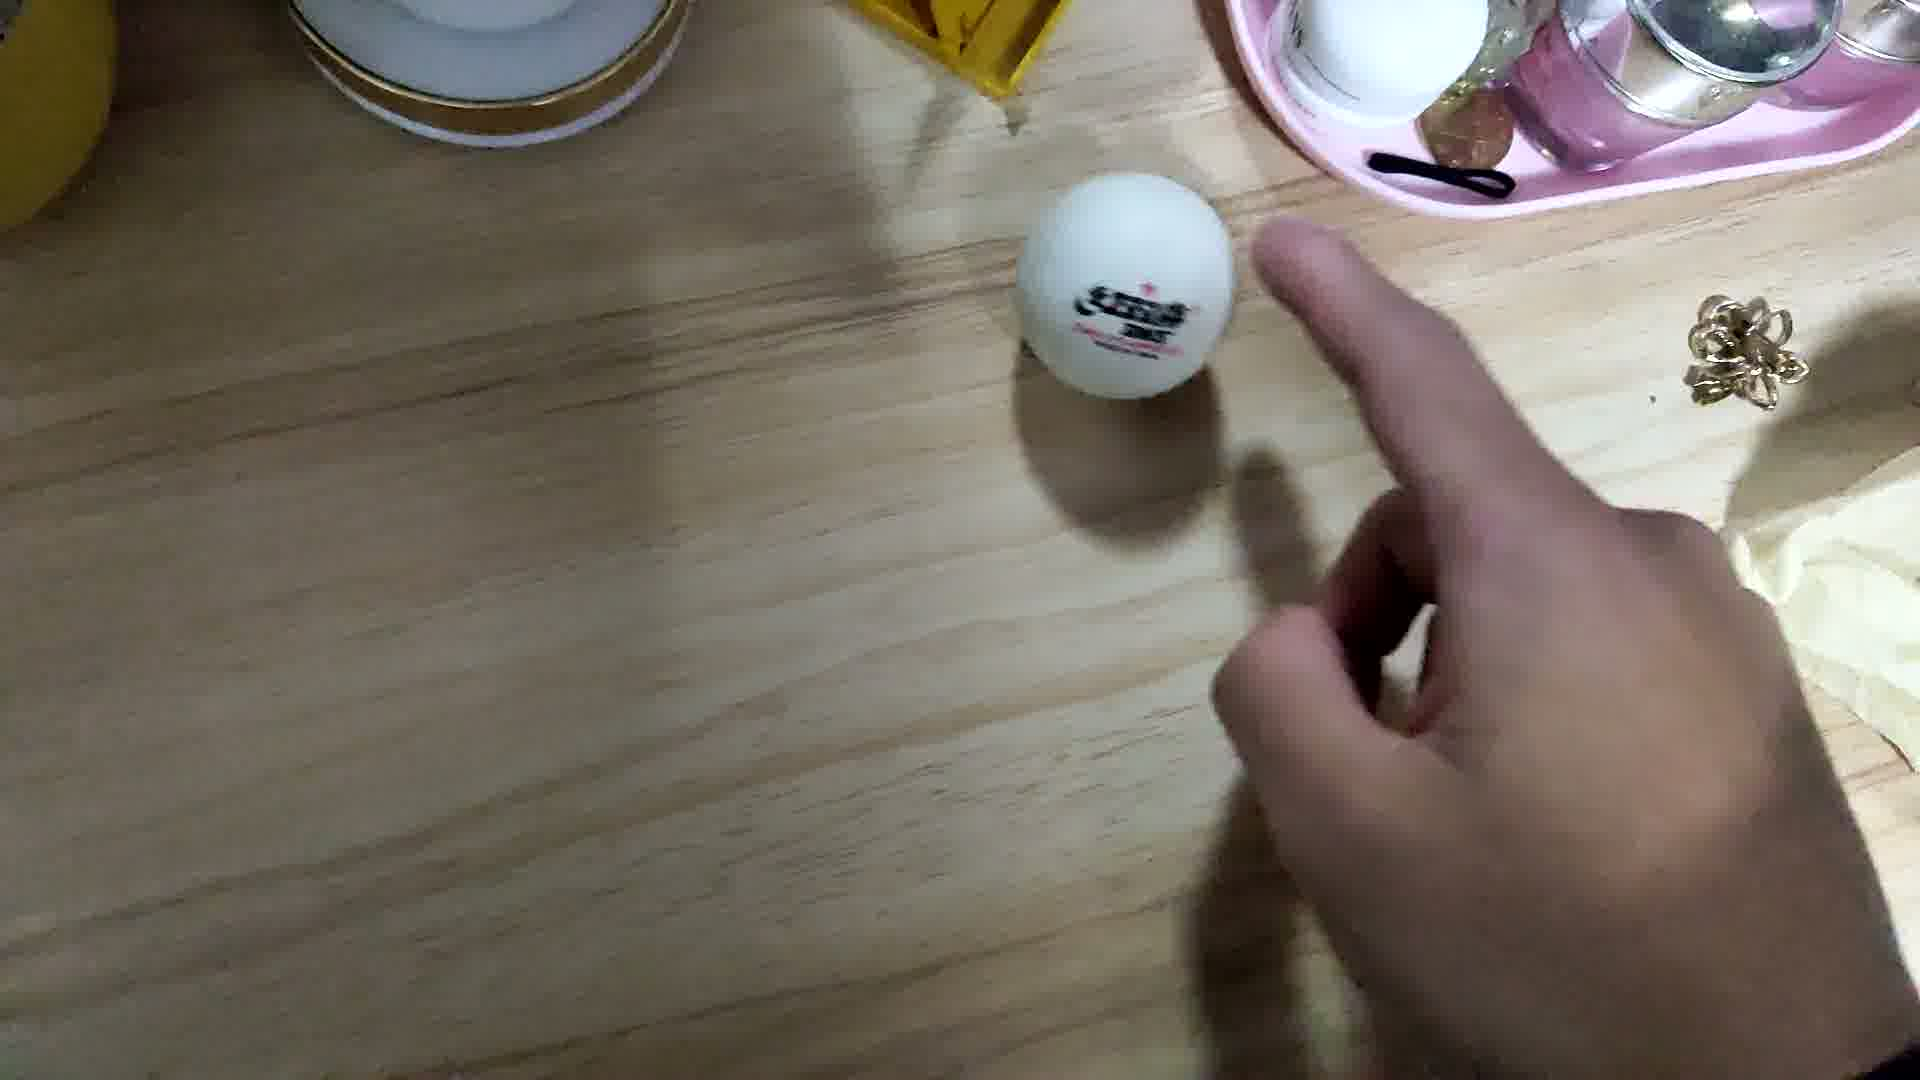Ball: (1022, 169, 1241, 404)
